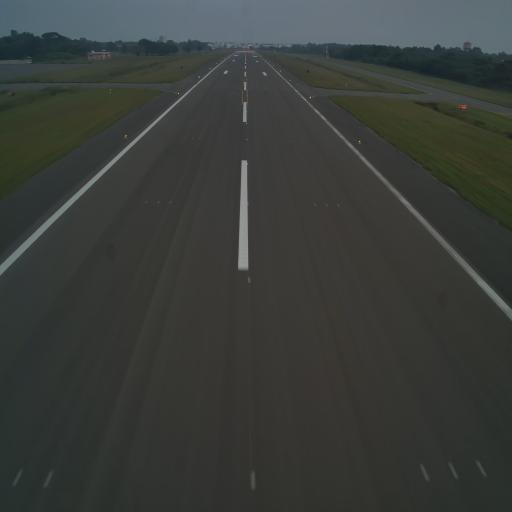off: (442, 451, 462, 484), (471, 451, 490, 484), (8, 462, 26, 495), (416, 458, 434, 488), (41, 462, 55, 494), (144, 198, 150, 208), (156, 197, 161, 207), (335, 202, 341, 210), (324, 201, 329, 210), (169, 199, 173, 209), (313, 200, 317, 210), (301, 137, 305, 145), (285, 138, 290, 144), (198, 135, 202, 141), (183, 135, 186, 142), (191, 136, 194, 142), (294, 137, 296, 144)
on: (245, 197, 251, 209), (247, 275, 252, 287), (357, 138, 362, 148), (245, 159, 249, 169), (123, 132, 128, 140), (245, 136, 249, 144)
